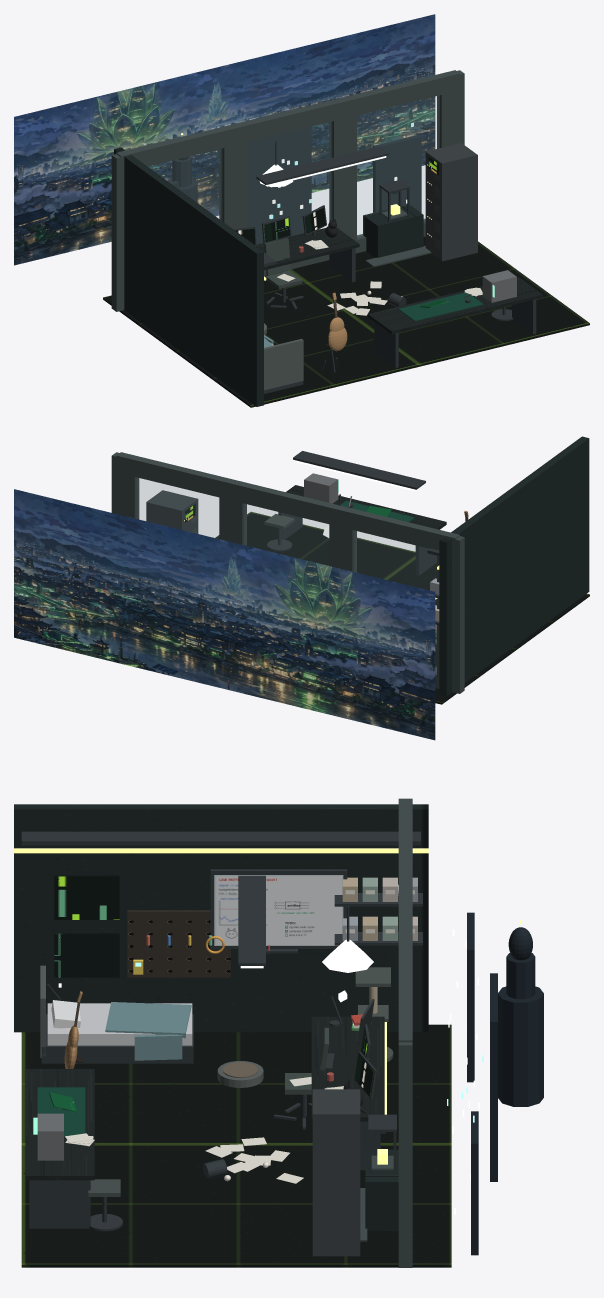
The model's file is room-lab.glb.
3 views of the same model, one above another, from view 1: azimuth 30°, elevation 25°; view 2: azimuth 150°, elevation 25°; view 3: azimuth 270°, elevation 25° (orthographic). The views are drawn at different scales.
Visible parts, largest first — view 1: cityBackdrop, floor, leftWall, glassR, winTop, glassC, rackBody, silhB, winPillar.002, silhC, glassL, winPillar.001 (+16 smaller); view 2: cityBackdrop, leftWall, winTop, floor, glassC, glassR, glassL, winPillar, rackBody, winPillar.001, ledBarHouse, winPillar.003 (+4 smaller); view 3: floor, leftWall, rackBody, wbFace, pegFace, cableTray, towerBase, benchTop, deskTop, winTop, winPillar.003, benchLegR (+21 smaller).
Part boxes in pixels (<box>): cityBackdrop: <box>14,14,435,265</box>; floor: <box>103,236,589,407</box>; leftWall: <box>114,147,263,406</box>; glassR: <box>357,95,439,236</box>; winTop: <box>116,70,459,172</box>; glassC: <box>247,122,331,243</box>; rackBody: <box>425,143,477,261</box>; silhB: <box>247,126,311,244</box>; winPillar.002: <box>329,100,356,253</box>; silhC: <box>373,134,421,212</box>; glassL: <box>148,149,221,219</box>; winPillar.001: <box>219,127,246,229</box>; cityBackdrop: <box>14,489,435,740</box>; leftWall: <box>439,436,589,695</box>; winTop: <box>116,452,459,554</box>; floor: <box>215,511,589,704</box>; glassC: <box>245,504,328,565</box>; glassR: <box>137,478,218,538</box>; glassL: <box>355,531,436,671</box>; winPillar: <box>437,535,464,693</box>; rackBody: <box>146,490,198,533</box>; winPillar.001: <box>329,509,356,572</box>; ledBarHouse: <box>293,451,425,489</box>; winPillar.003: <box>111,452,139,519</box>; floor: <box>21,1024,451,1267</box>; leftWall: <box>14,804,428,1032</box>; rackBody: <box>312,1089,360,1256</box>; wbFace: <box>214,875,343,945</box>; pegFace: <box>127,910,230,977</box>; cableTray: <box>21,831,420,845</box>; towerBase: <box>498,986,543,1106</box>; benchTop: <box>25,1069,94,1180</box>; deskTop: <box>311,1016,384,1121</box>; winTop: <box>398,800,412,1042</box>; winPillar.003: <box>398,1042,412,1267</box>; benchLegR: <box>29,1180,90,1228</box>.
Bounding box in the file's own units: 9.2 × 3.29 × 7.5.
Materials: 64 (11 with a texture image).
